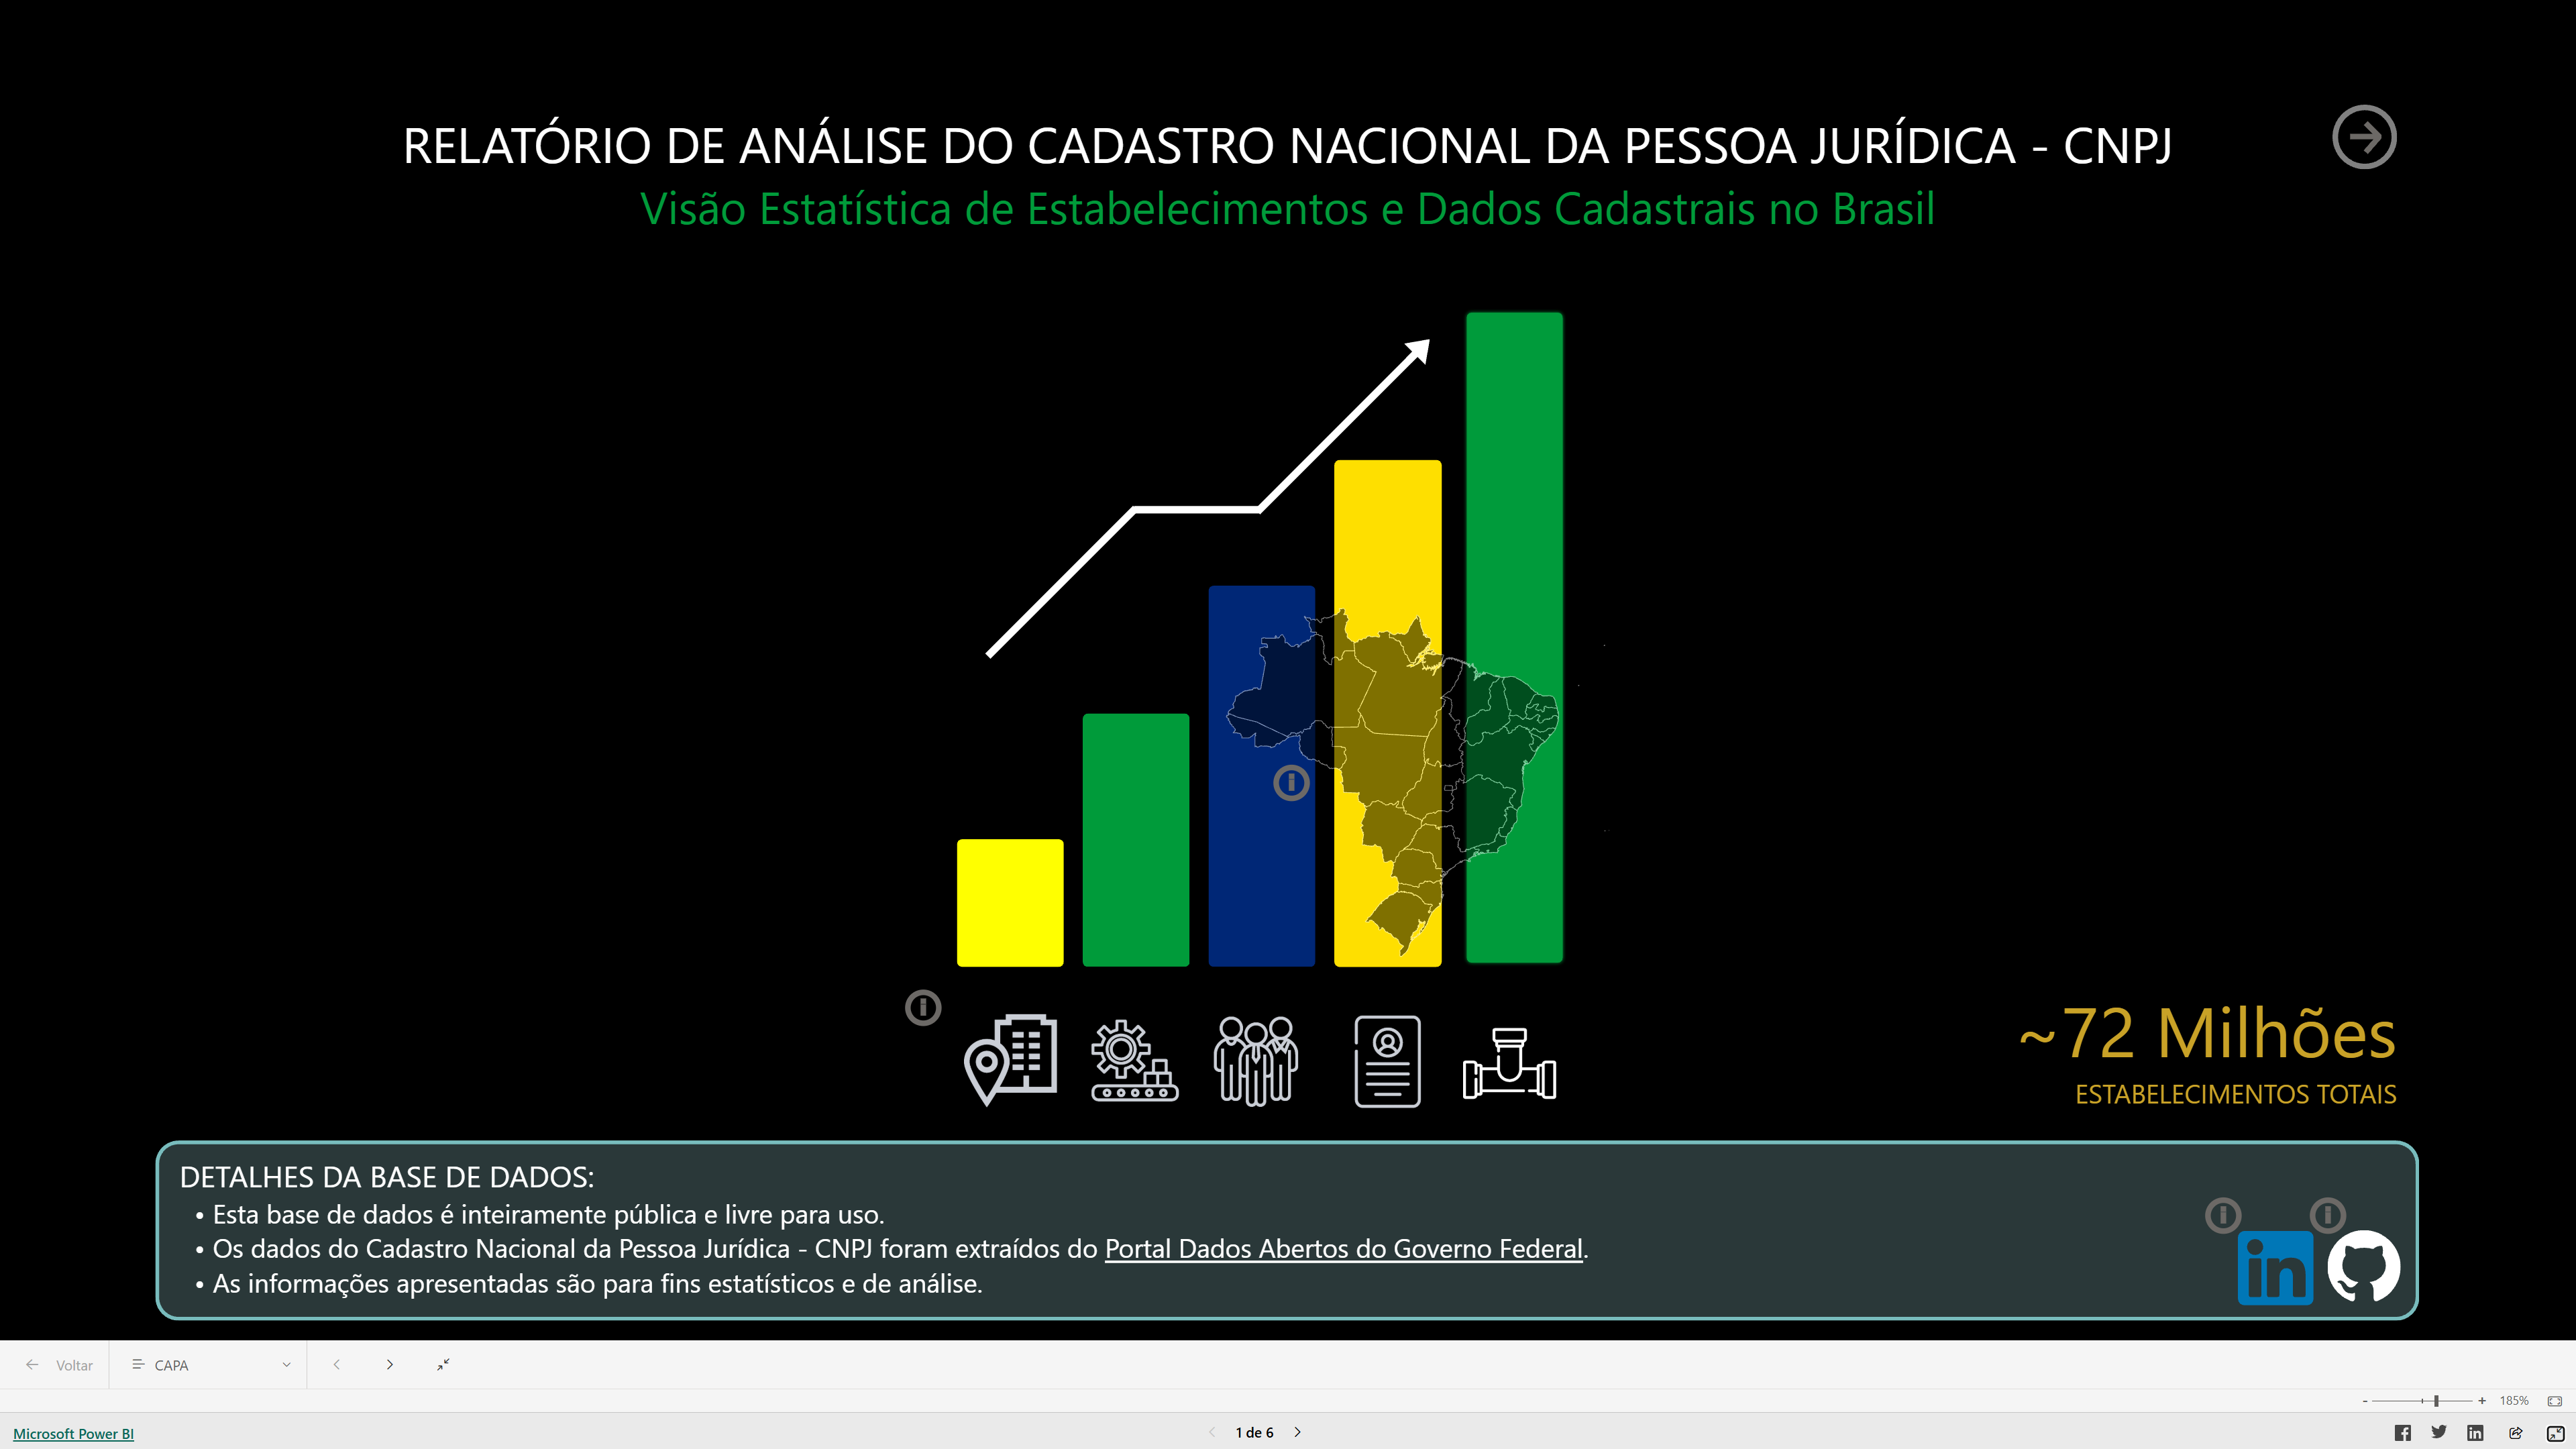

The page's visual inventory and layout, read from the dashboard file:
{"tool":"powerbi","page":{"name":"CAPA","canvas":[1280,720],"ordinal":0},"visuals":[{"type":"group","id":"g1","title":"Barras","box":[458.3,166.6,326.8,355.8],"z":0,"group":"g3"},{"type":"group","id":"g2","title":"Rodapé","box":[27.6,608.6,1224.2,104.8],"z":0},{"type":"image","title":"Mapa Brasil","box":[552.3,317.6,304,204.7],"z":1000,"group":"g3"},{"type":"textbox","title":"Texto 72 Milhões","box":[1016.5,522.7,224.6,91.6],"z":1000},{"type":"shape","title":"Fundo","box":[27.6,608.6,1224.2,104.8],"z":1000,"group":"g2"},{"type":"image","title":"Imagem Dados CNPJ","box":[1194.8,663.2,40.5,42],"z":1500,"group":"g2"},{"type":"shape","title":"Linha seta 3","box":[473.1,219,83.3,191.1],"z":2000,"group":"g3"},{"type":"image","title":"GitHub","box":[1148,663.6,39.1,41.2],"z":2000,"group":"g2"},{"type":"shape","title":"Linha seta 2","box":[553.1,187,67.8,177],"z":3000,"group":"g3"},{"type":"image","title":"LinkedIn","box":[1099.6,665,40.5,41.2],"z":3000,"group":"g2"},{"type":"shape","title":"Linha seta 1","box":[617.5,138.3,88.3,191],"z":4000,"group":"g3"},{"type":"image","box":[731.8,539.9,50,60],"z":4000},{"type":"textbox","title":"Texto","box":[38.9,614.2,1202.2,94.1],"z":4000,"group":"g2"},{"type":"shape","title":"Ponta seta","box":[698,183.1,14.2,13.9],"z":5000,"group":"g3"},{"type":"shape","title":"1","box":[458.3,453.3,57.4,69.1],"z":5000,"group":"g1"},{"type":"shape","title":"2","box":[525.8,385.2,57.4,137.1],"z":6000,"group":"g1"},{"type":"image","box":[668.2,539.9,50,60],"z":6000},{"type":"shape","title":"3","box":[593.3,316.2,57.4,206.2],"z":7000,"group":"g1"},{"type":"image","box":[596.4,539.9,50,60],"z":7000},{"type":"shape","title":"4","box":[660.8,248.1,57.7,274.3],"z":8000,"group":"g1"},{"type":"image","box":[529.1,539.9,50,60],"z":8500},{"type":"shape","title":"5","box":[729.7,166.6,55.4,355.6],"z":9000,"group":"g1"},{"type":"image","box":[461.8,539.9,50,60],"z":9000},{"type":"group","id":"g3","title":"Gráfico","box":[458.3,138.3,398,384.1],"z":9250},{"type":"textbox","title":"Título","box":[0,52.1,1280,78.4],"z":9500}]}

Visuals, with their boxes in screenshot pixels (x1, y1, x2, y2):
"Barras" group: <box>810,285,1436,967</box>
"Rodapé" group: <box>0,1132,2329,1332</box>
"Mapa Brasil" image: <box>990,574,1572,966</box>
"Texto 72 Milhões" textbox: <box>1879,967,2309,1142</box>
"Fundo" shape: <box>0,1132,2329,1332</box>
"Imagem Dados CNPJ" image: <box>2220,1236,2298,1316</box>
"Linha seta 3" shape: <box>839,386,998,751</box>
"GitHub" image: <box>2131,1237,2206,1316</box>
"Linha seta 2" shape: <box>991,325,1122,663</box>
"LinkedIn" image: <box>2038,1240,2115,1318</box>
"Linha seta 1" shape: <box>1115,231,1284,597</box>
image: <box>1334,1000,1430,1115</box>
"Texto" textbox: <box>7,1142,2309,1322</box>
"Ponta seta" shape: <box>1269,317,1296,343</box>
"1" shape: <box>810,835,920,967</box>
"2" shape: <box>939,704,1049,966</box>
image: <box>1212,1000,1307,1115</box>
"3" shape: <box>1069,572,1179,967</box>
image: <box>1075,1000,1171,1115</box>
"4" shape: <box>1198,441,1308,967</box>
image: <box>946,1000,1042,1115</box>
"5" shape: <box>1330,285,1436,966</box>
image: <box>817,1000,912,1115</box>
"Gráfico" group: <box>810,231,1572,967</box>
"Título" textbox: <box>0,66,2383,216</box>
